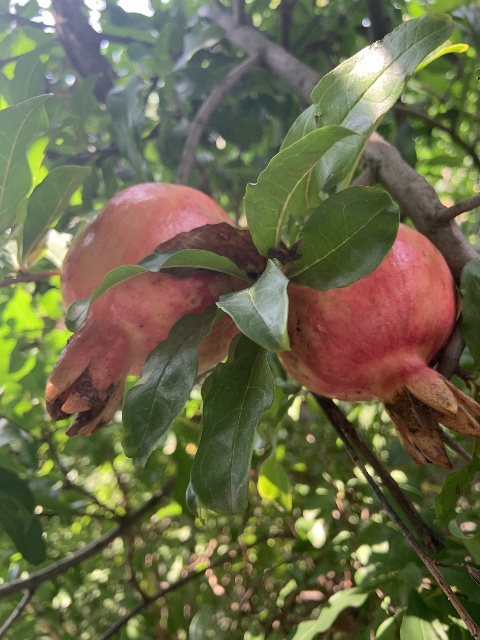ripe: (44, 181, 240, 437), (276, 223, 480, 466)
